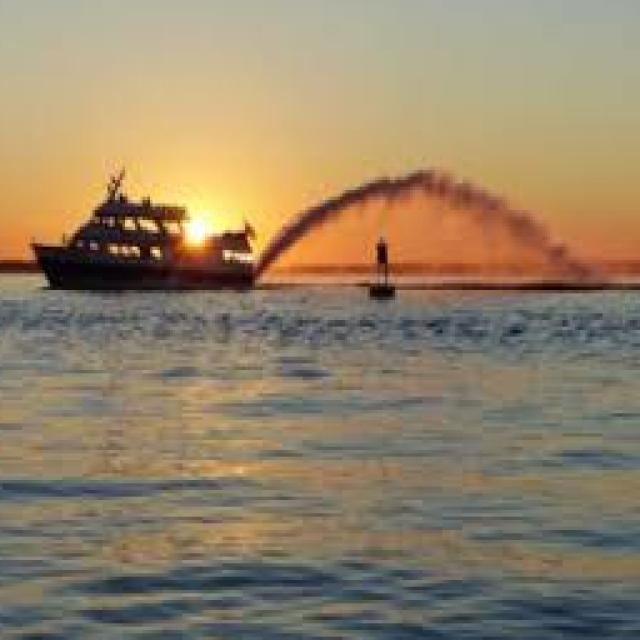houseboat: (38, 164, 259, 294)
